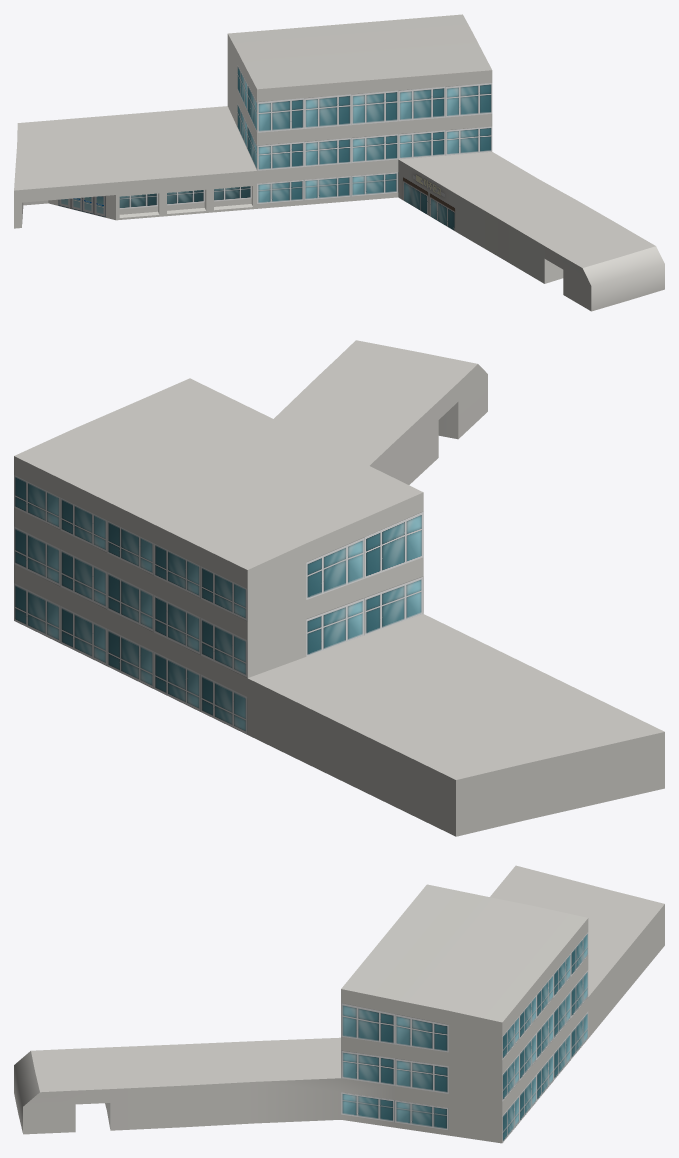
The model's file is building_studentunion1.fbx.
3 renders of one model, top to bottom at view 1: azimuth 30°, elevation 25°; view 2: azimuth 150°, elevation 25°; view 3: azimuth 270°, elevation 25°, orthographic. The views are drawn at different scales.
Parts seen in each view (by area): view 1: building_studentunion1; view 2: building_studentunion1; view 3: building_studentunion1.
Part boxes in pixels (box(x1,y1,x2,y2)): building_studentunion1: box(14, 14, 664, 311); building_studentunion1: box(14, 340, 664, 836); building_studentunion1: box(14, 865, 664, 1143).
Size of the model in its own units: 3.49 by 0.9013 by 4.06.
Materials: 1 (1 with a texture image).
